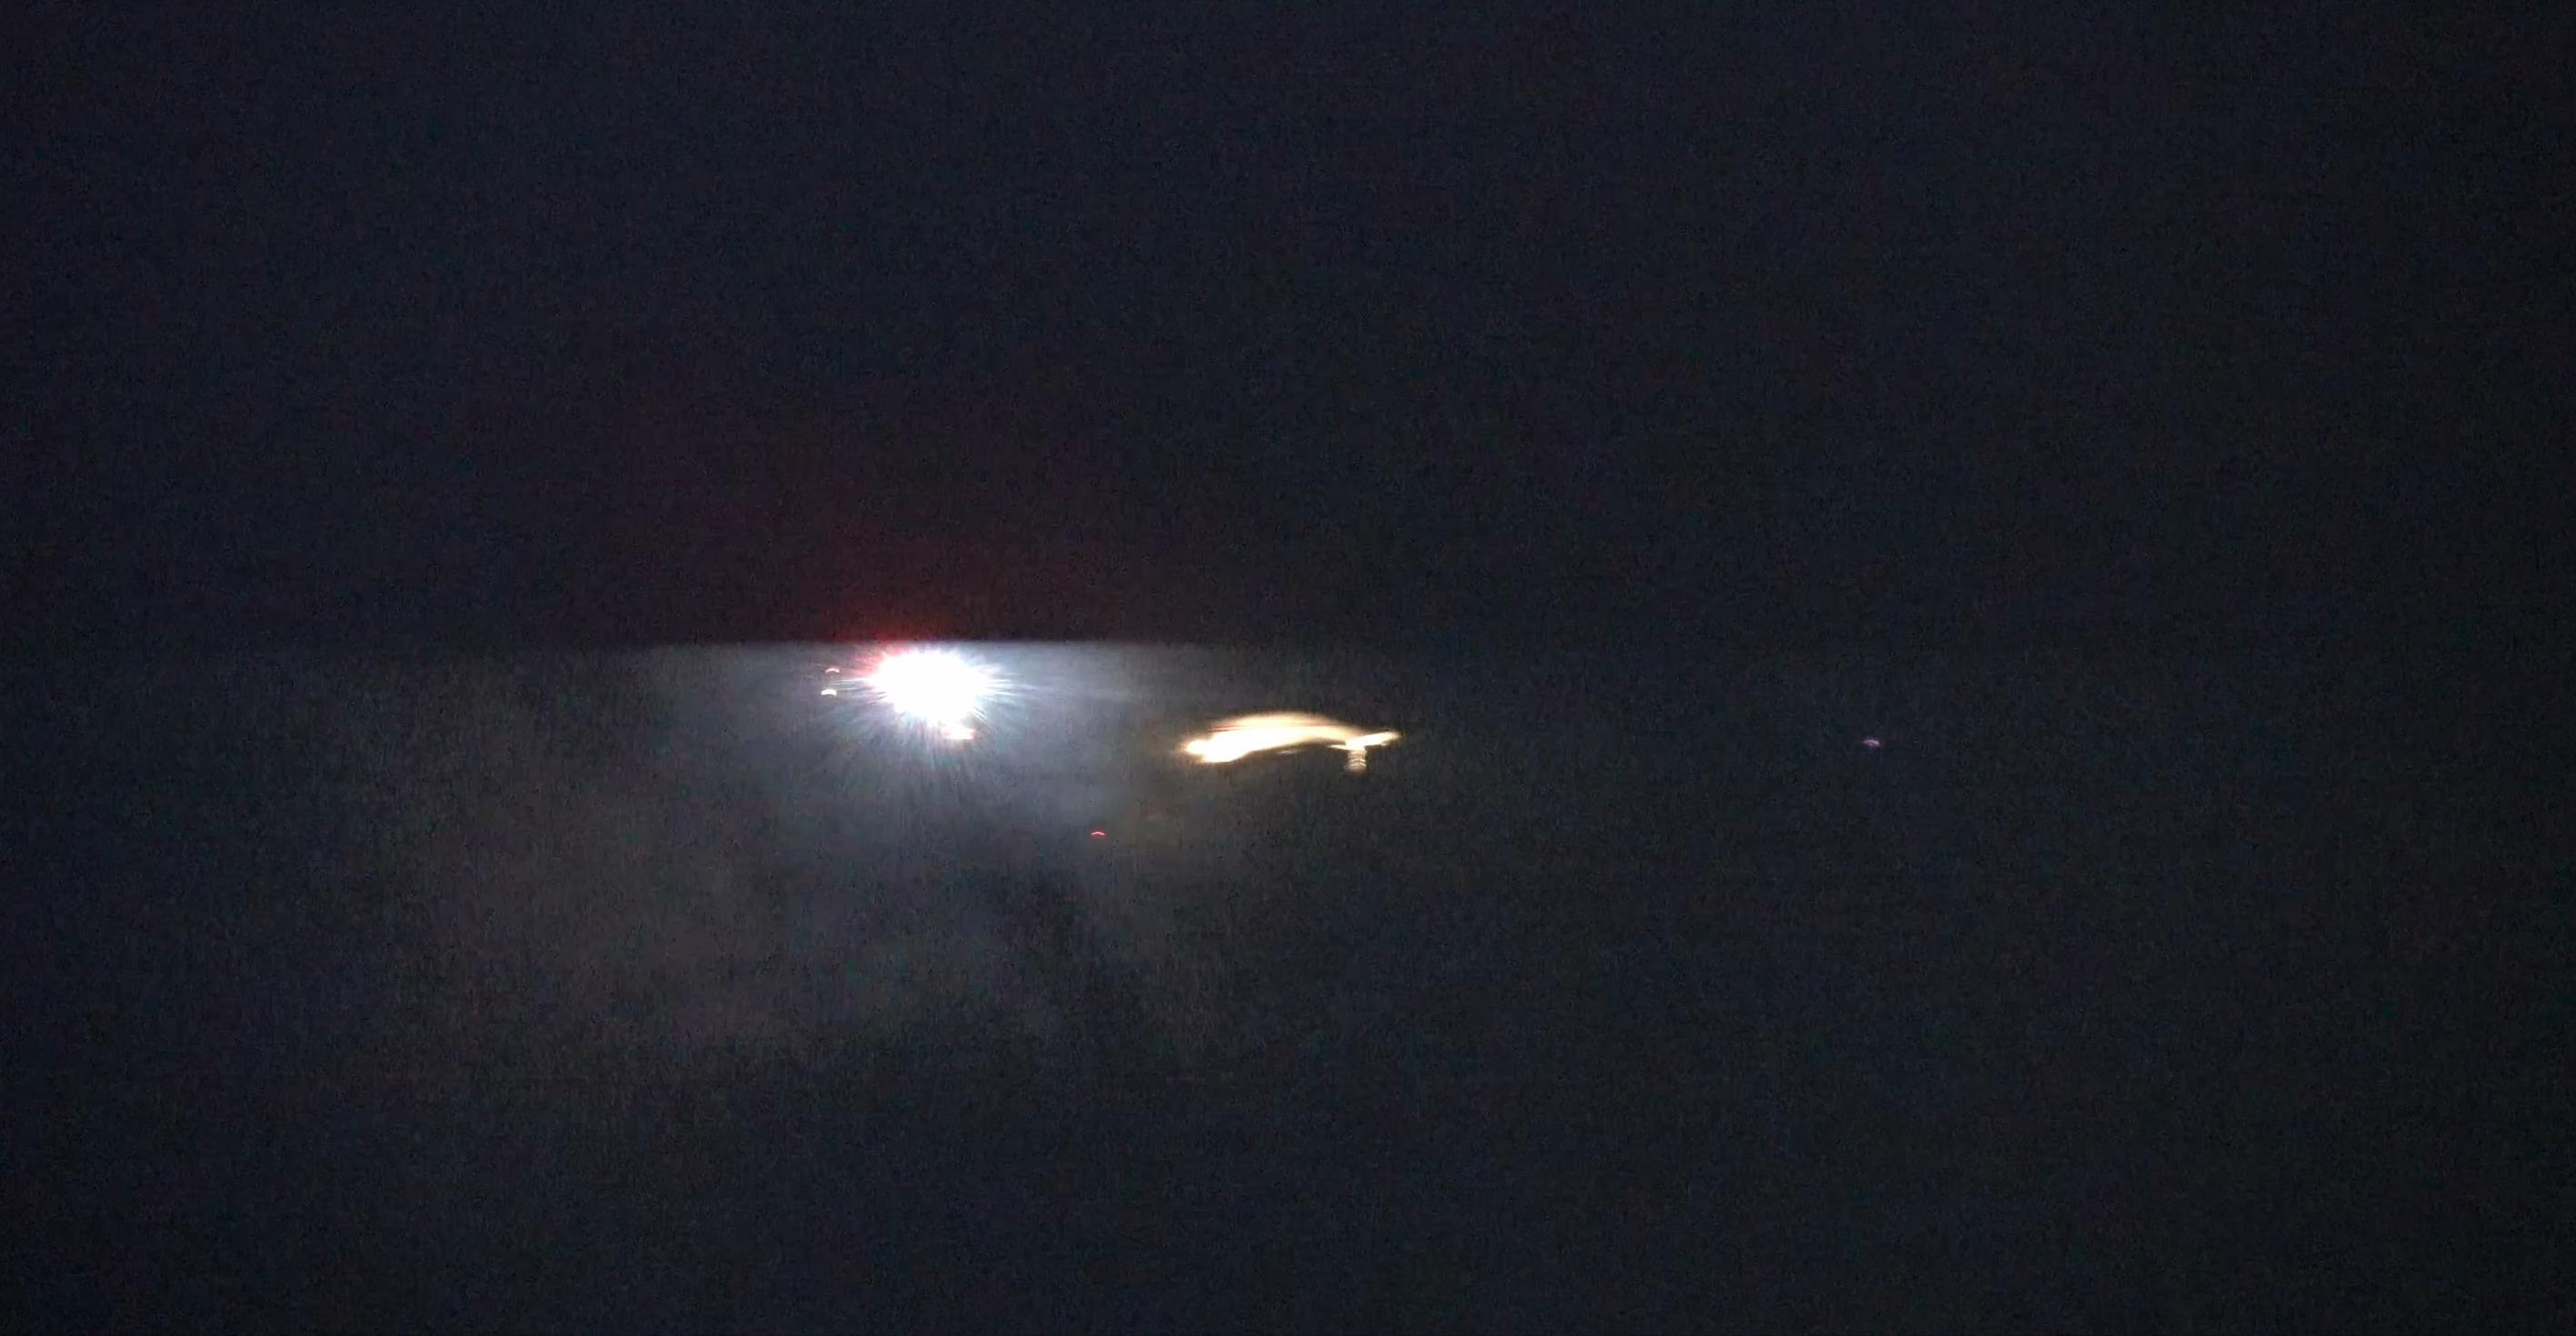Plane: (826, 631, 1368, 862)
